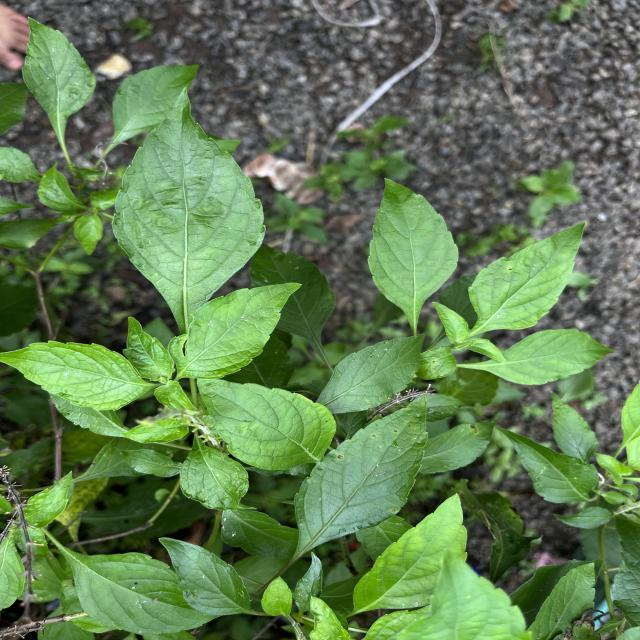Ocimum gratissimum: (110, 84, 269, 330), (291, 390, 430, 578), (42, 528, 219, 638), (350, 490, 471, 620), (366, 176, 462, 326), (165, 280, 305, 382), (466, 220, 589, 336), (194, 376, 338, 474), (19, 15, 100, 162), (0, 338, 156, 414), (456, 326, 618, 386), (317, 334, 428, 416), (493, 426, 602, 506), (157, 536, 263, 618), (178, 432, 258, 514)
